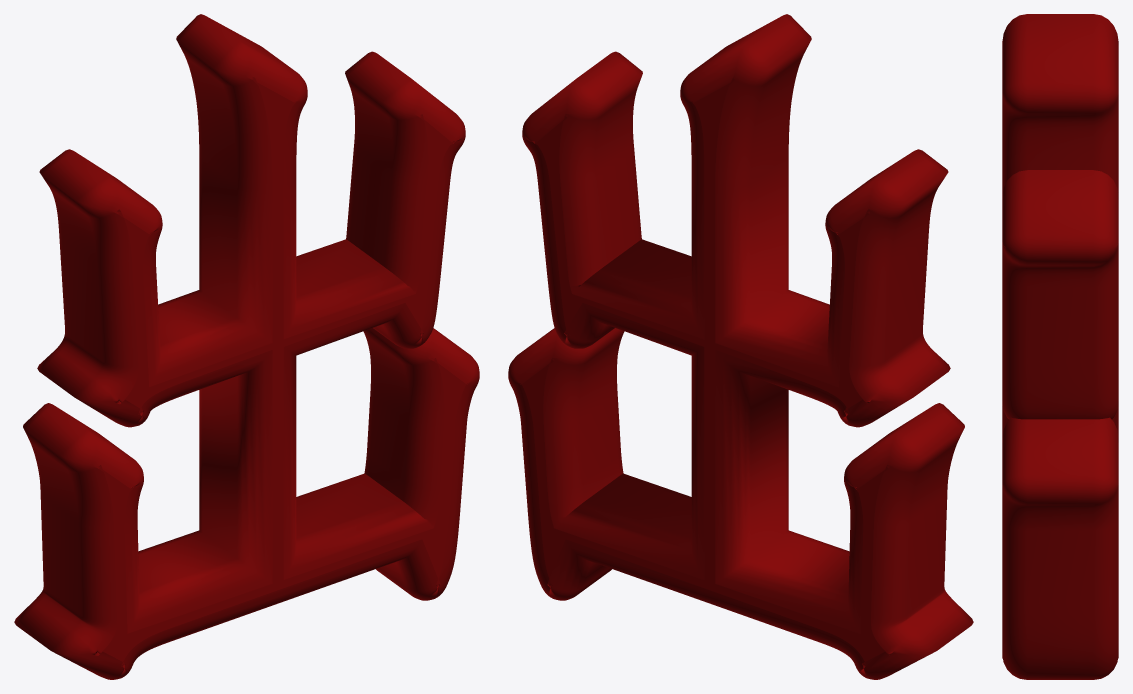
Rendered from chu.fbx.
3 views of the same model, side by side, from view 1: azimuth 30°, elevation 25°; view 2: azimuth 150°, elevation 25°; view 3: azimuth 270°, elevation 25° (orthographic). The views are drawn at different scales.
Parts seen in each view (by area): view 1: Text.003; view 2: Text.003; view 3: Text.003.
Boxes of the visible parts, x1,y1,x2,y2 form: Text.003: [14, 14, 479, 679]; Text.003: [508, 14, 973, 679]; Text.003: [1002, 14, 1118, 679].
Size of the model in its own units: 56.7 by 77.12 by 14.
